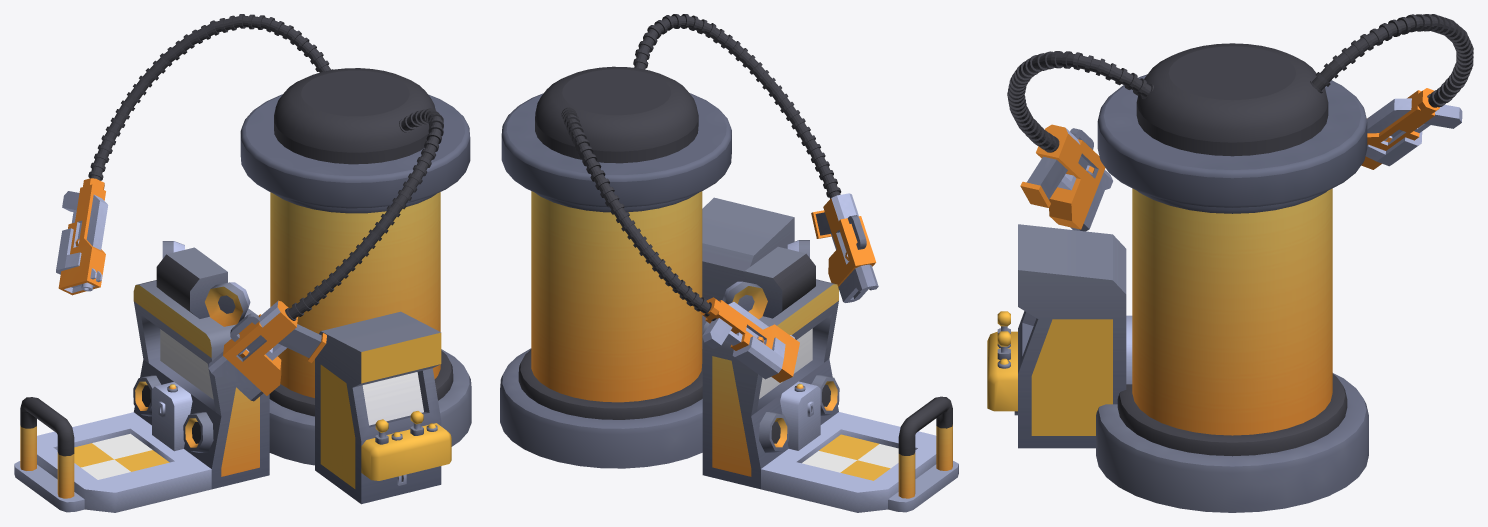
File: Machine_Yellow.fbx
The picture shows the model from 3 angles, left to right: view 1: azimuth 30°, elevation 25°; view 2: azimuth 150°, elevation 25°; view 3: azimuth 270°, elevation 25°; orthographic projection. The views are drawn at different scales.
Parts seen in each view (by area): view 1: machine_yellow; view 2: machine_yellow; view 3: machine_yellow.
Part boxes in pixels (x1,y1,x2,y2): machine_yellow: (14,14,471,512); machine_yellow: (500,14,958,512); machine_yellow: (987,14,1473,512).
Bounding box in the file's own units: 867 × 710 × 744.
1 material, 1 textured.
